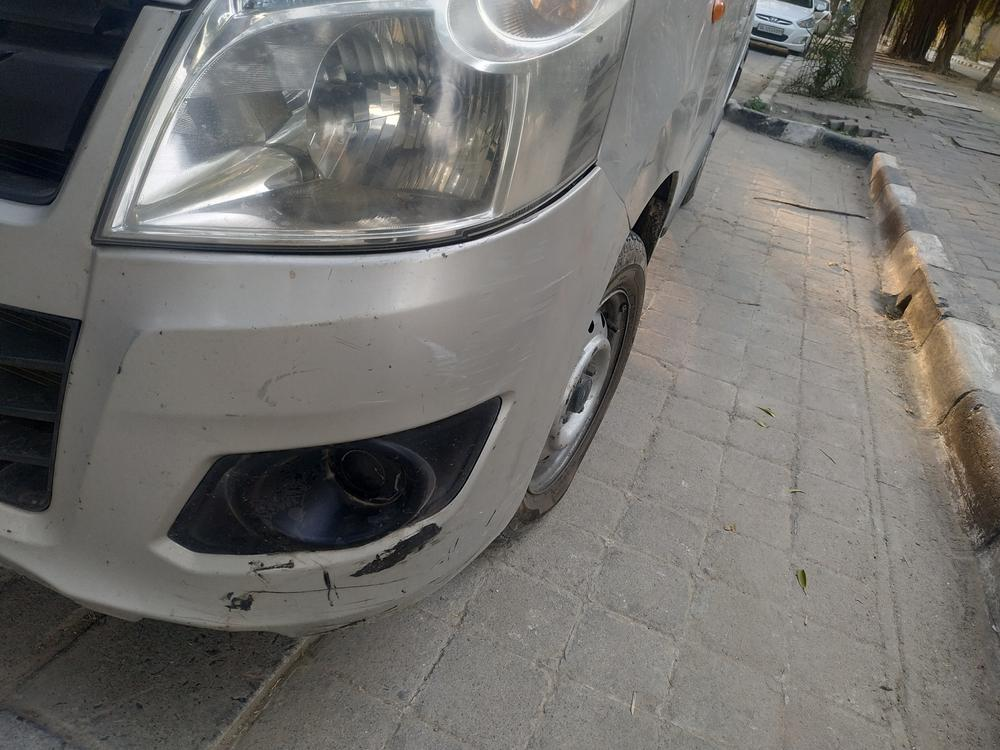scratch: (218, 515, 450, 625)
